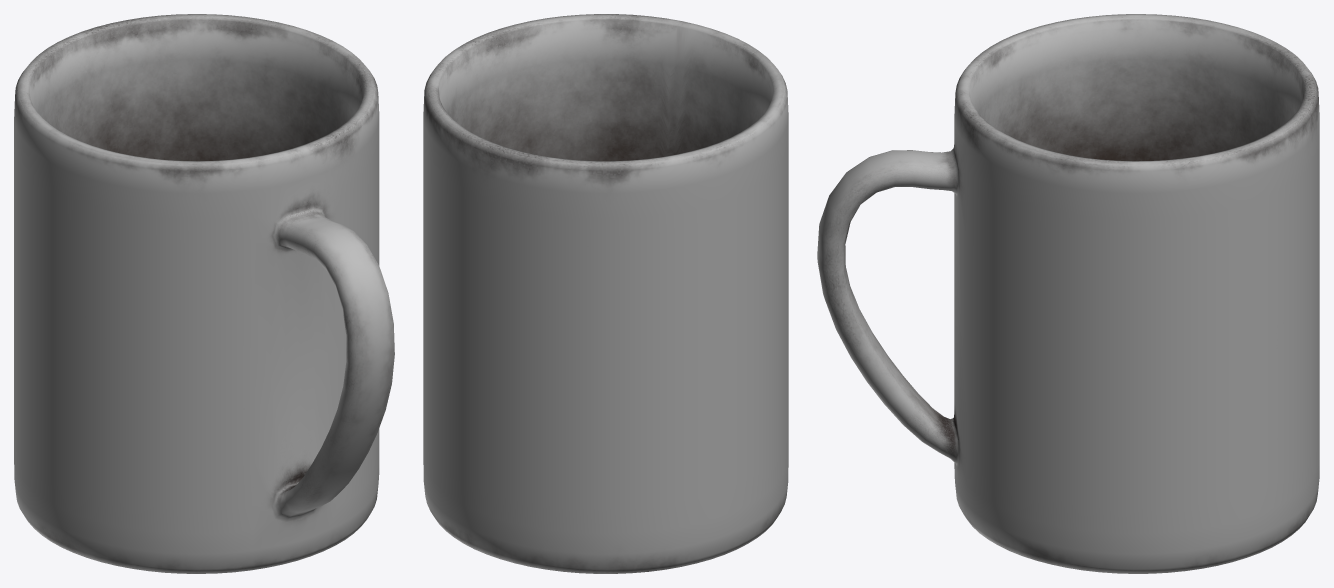
Rendered from kop.fbx.
3 views of the same model, side by side, from view 1: azimuth 30°, elevation 25°; view 2: azimuth 150°, elevation 25°; view 3: azimuth 270°, elevation 25° (orthographic).
Visible parts, largest first — view 1: Cylinder; view 2: Cylinder; view 3: Cylinder.
Part boxes in pixels (x1,y1,x2,y2): Cylinder: [14, 14, 394, 573]; Cylinder: [423, 14, 788, 573]; Cylinder: [817, 14, 1319, 573].
Bounding box in the file's own units: 0.0924 × 0.1147 × 0.127.
1 material, 1 textured.
